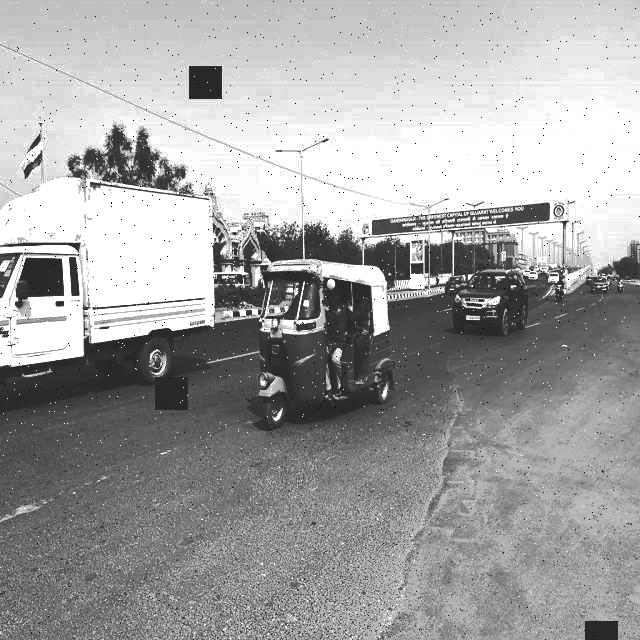Auto-Rickshaw: (251, 245, 403, 433)
Car: (450, 260, 538, 340)
LCV: (0, 176, 231, 381)
